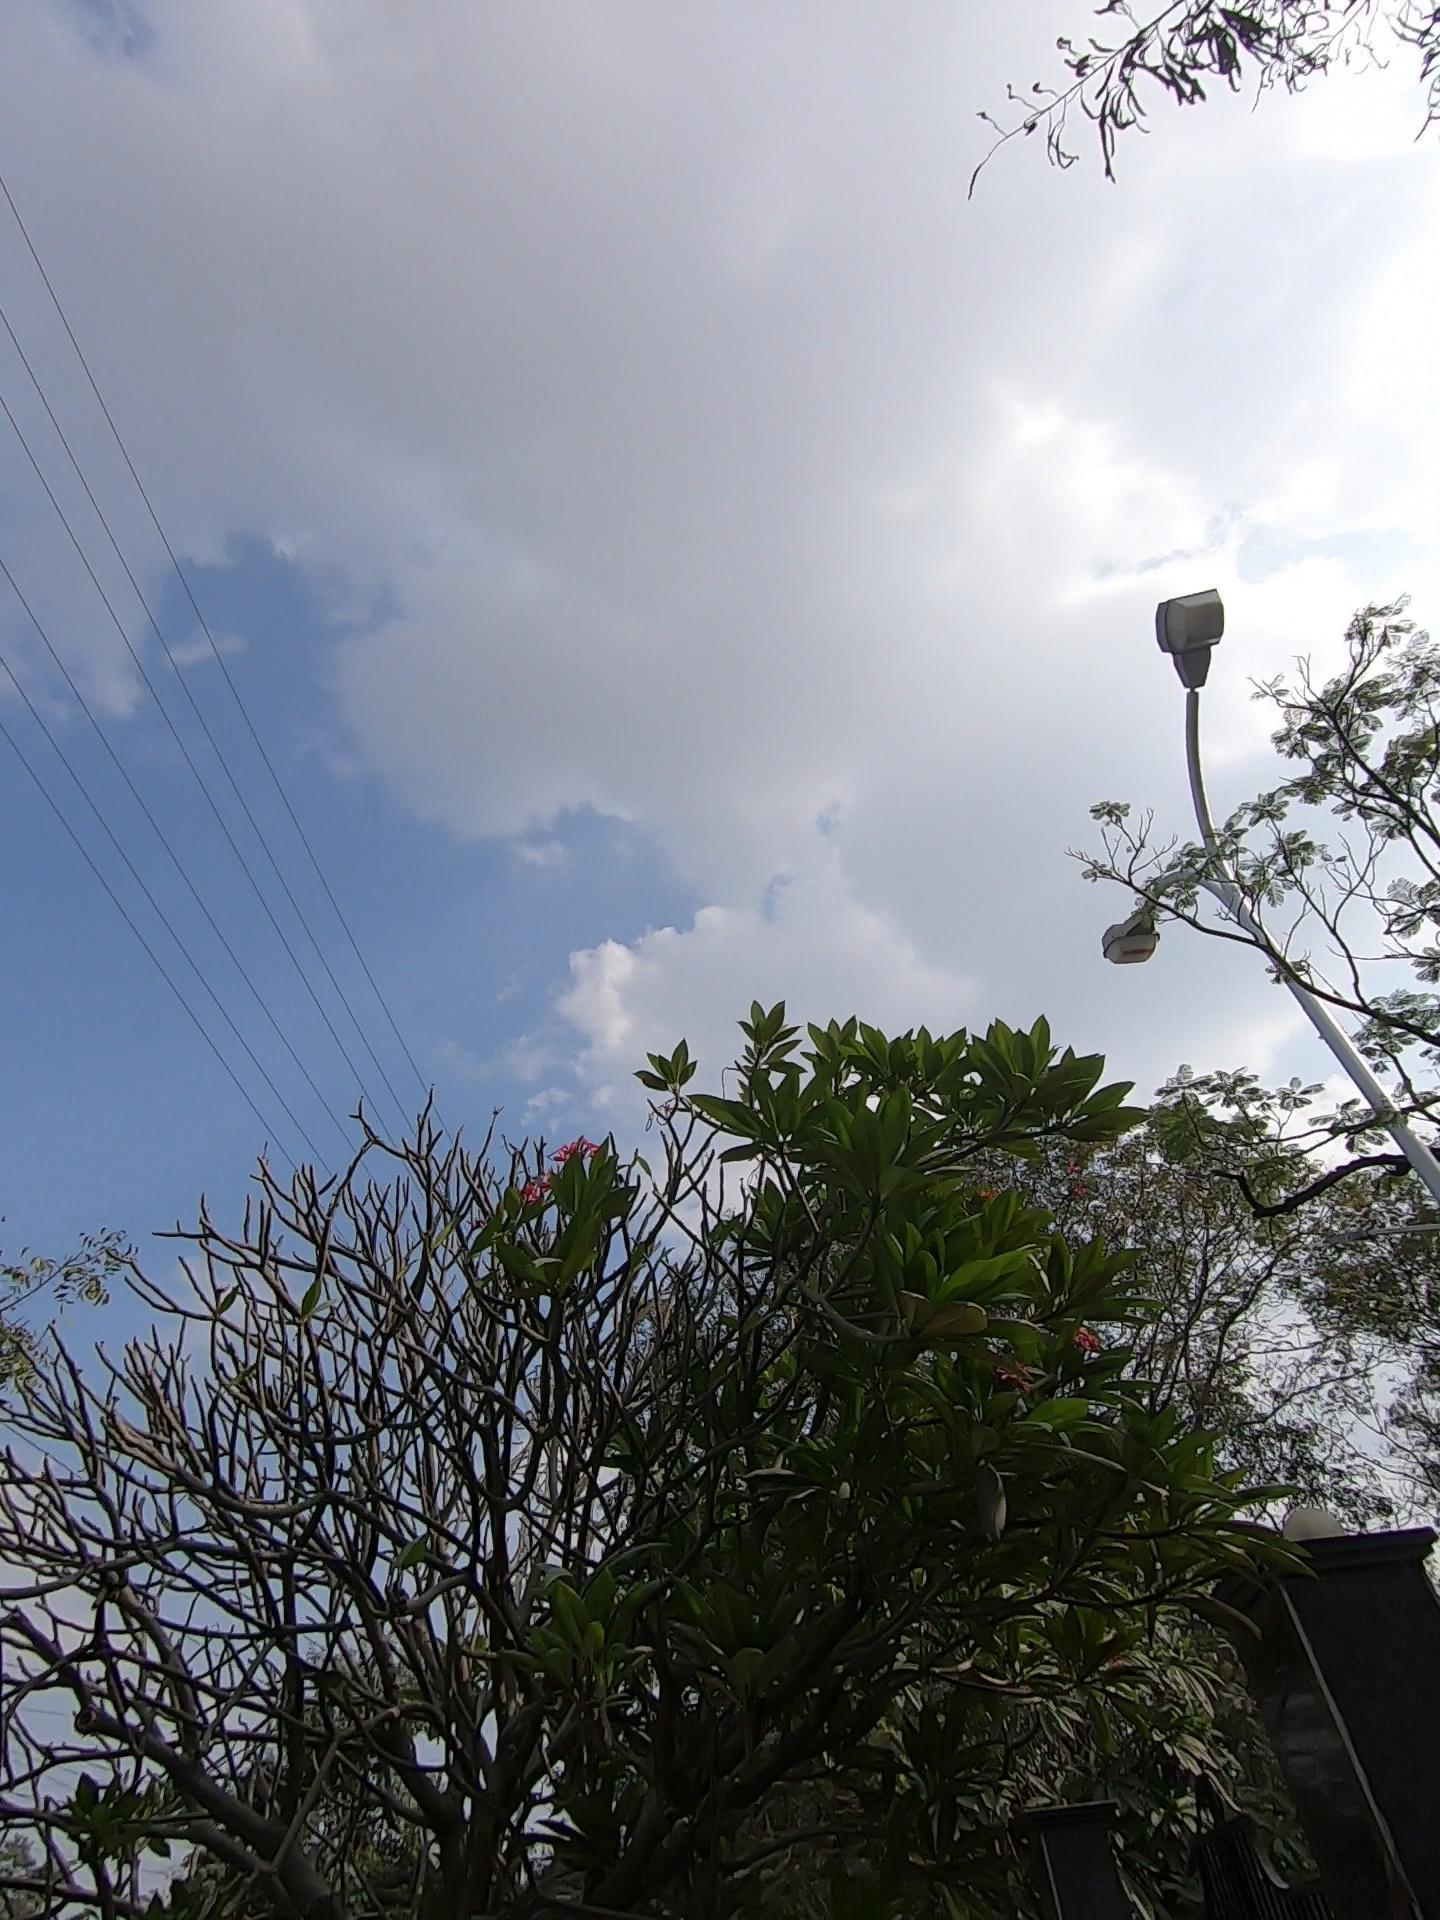off: (985, 472, 1299, 1108)
